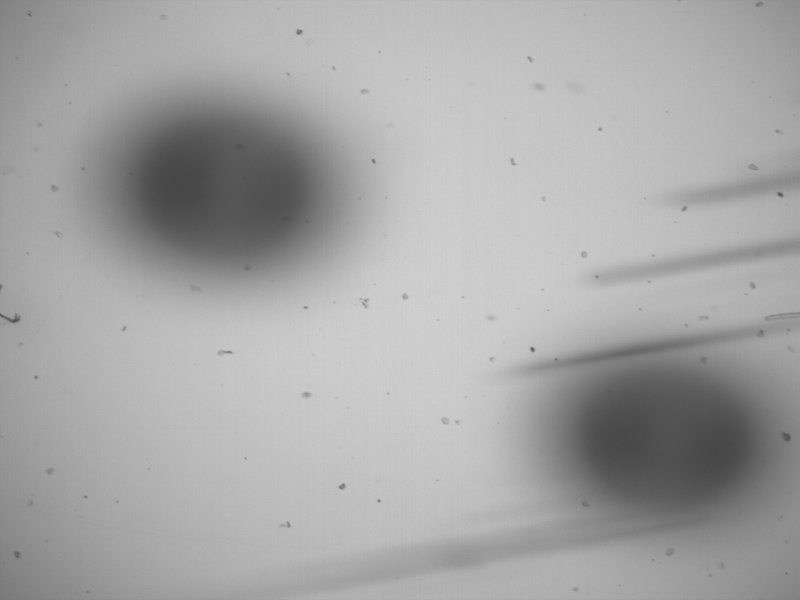bead: (134, 112, 314, 265), (580, 365, 756, 516)
